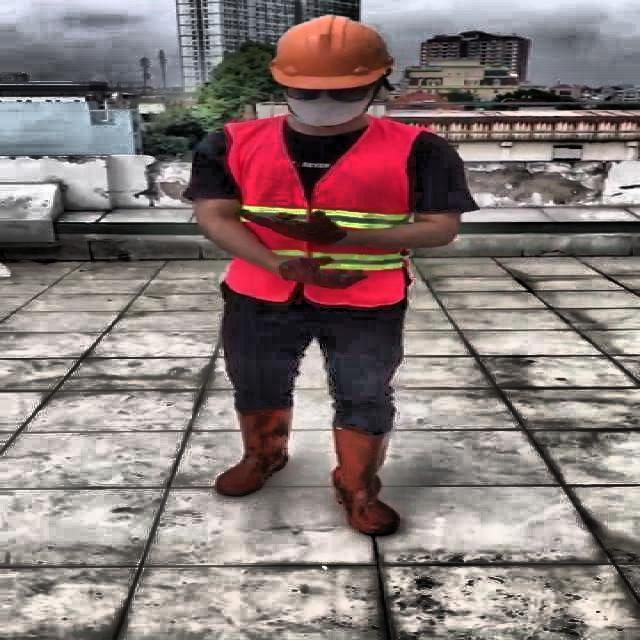safety_helmet: (256, 13, 402, 88)
safety_jacket: (222, 117, 423, 308)
